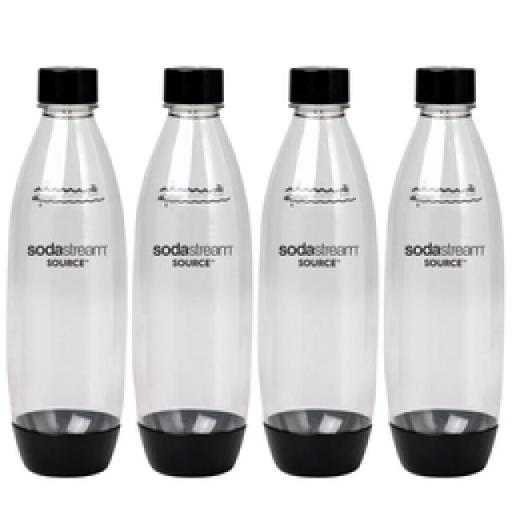plastic: (6, 64, 126, 476), (384, 64, 504, 476), (132, 64, 252, 476), (258, 64, 376, 476)
